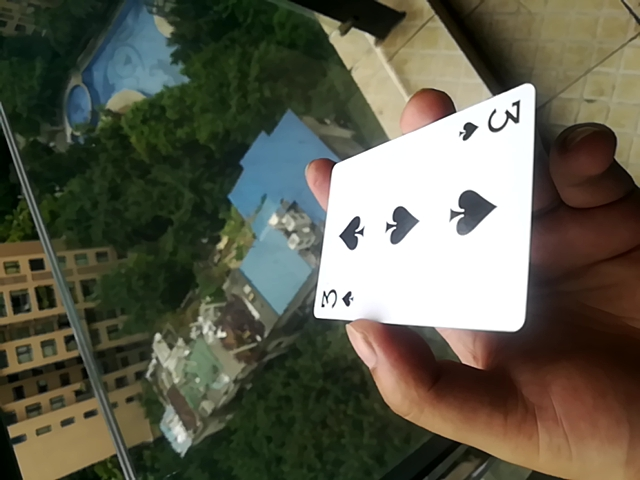ht 3: (309, 82, 540, 336)
